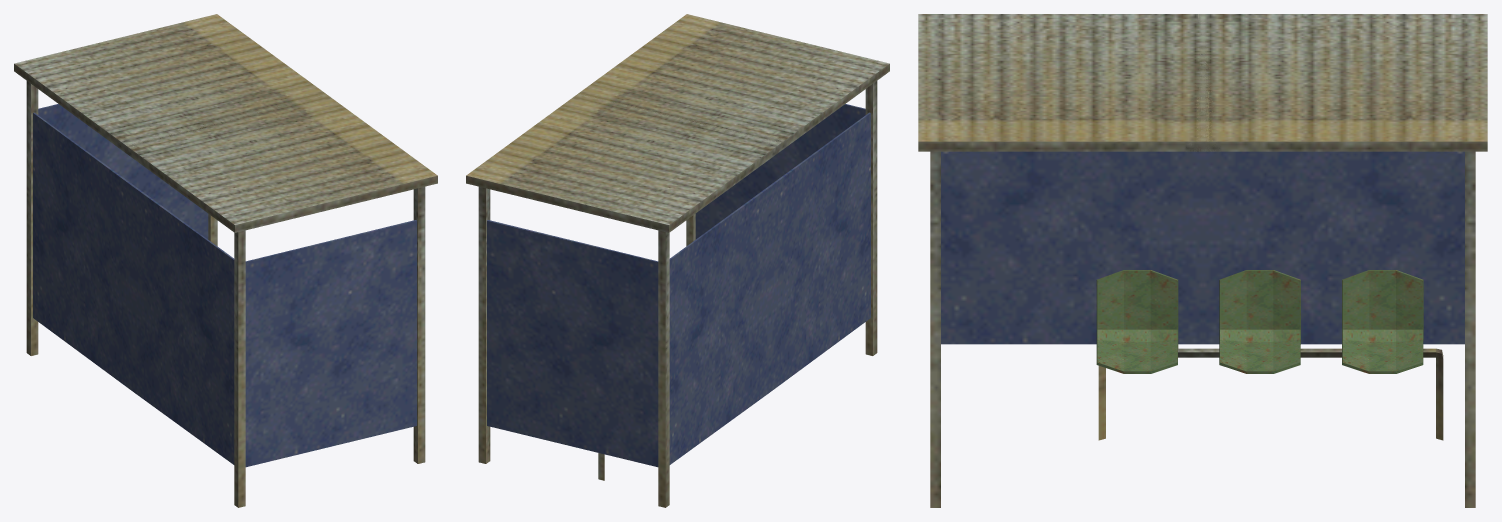
The model's file is Urban_BusstopCleanSeats_Model.fbx.
3 renders of one model, left to right at view 1: azimuth 30°, elevation 25°; view 2: azimuth 150°, elevation 25°; view 3: azimuth 270°, elevation 25°, orthographic. The views are drawn at different scales.
Visible parts, largest first — view 1: Urban_BusstopCleanSeats_Mesh; view 2: Urban_BusstopCleanSeats_Mesh; view 3: Urban_BusstopCleanSeats_Mesh.
Boxes of the visible parts, box(x1,y1,x2,y2) form: Urban_BusstopCleanSeats_Mesh: box(14, 14, 437, 507); Urban_BusstopCleanSeats_Mesh: box(466, 14, 889, 507); Urban_BusstopCleanSeats_Mesh: box(918, 14, 1487, 507).
Size of the model in its own units: 2.26 by 3.07 by 4.26.
